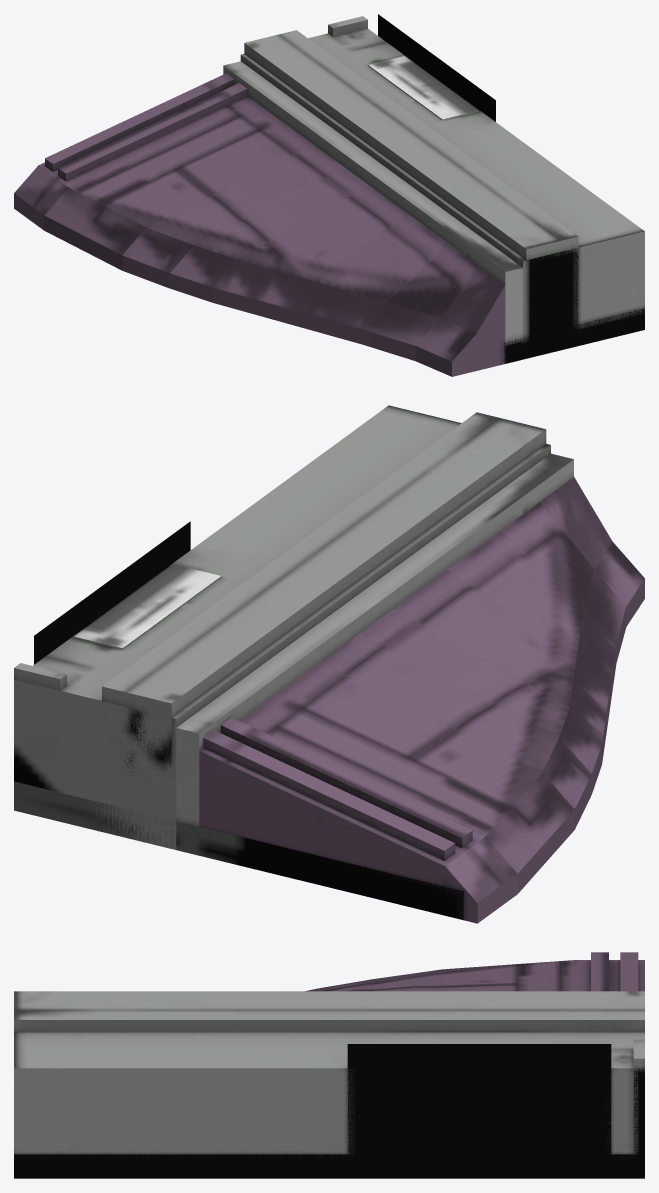
The model's file is newshb-115.glb.
The picture shows the model from 3 angles, top to bottom: view 1: azimuth 30°, elevation 25°; view 2: azimuth 150°, elevation 25°; view 3: azimuth 270°, elevation 25°; orthographic projection. The views are drawn at different scales.
Parts seen in each view (by area): view 1: newshb-115; view 2: newshb-115; view 3: newshb-115.
Boxes of the visible parts, x1,y1,x2,y2 form: newshb-115: [14, 14, 644, 376]; newshb-115: [14, 405, 644, 923]; newshb-115: [14, 952, 644, 1178].
Bounding box in the file's own units: 1.67 × 0.55 × 2.33.
6 materials, 6 textured.
